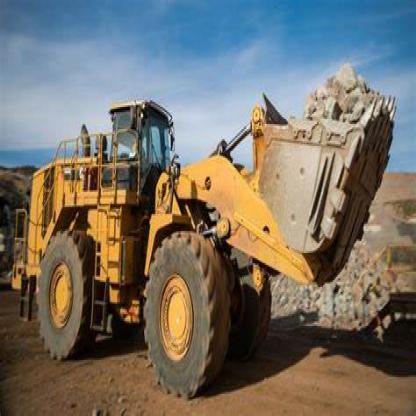bull_dozer/loader/grader: (10, 58, 402, 404)
